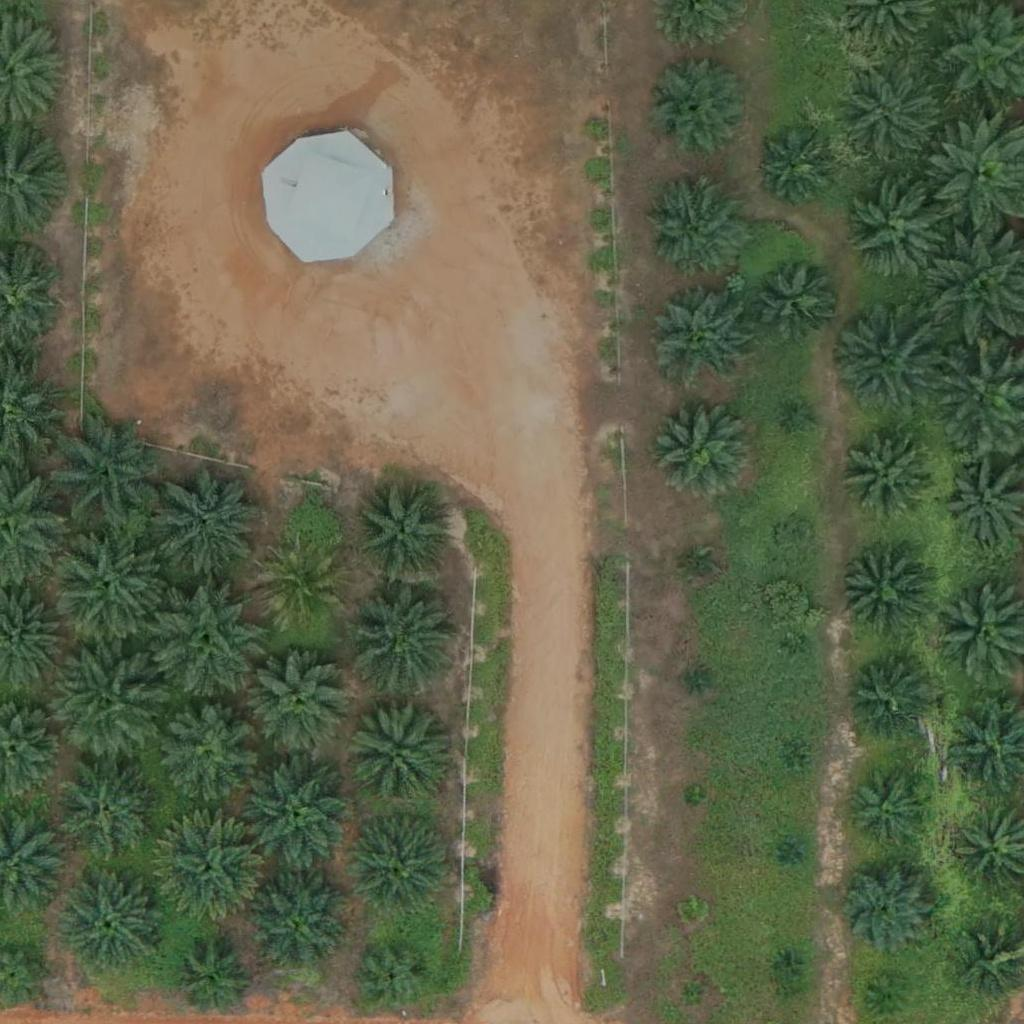Kelapa_Sawit: (830, 304, 943, 418), (154, 467, 267, 581), (152, 583, 265, 697), (52, 418, 165, 532), (241, 756, 354, 869), (52, 524, 164, 638), (154, 817, 266, 930), (830, 853, 942, 966), (349, 582, 461, 695), (49, 649, 161, 762), (643, 176, 743, 277), (651, 287, 751, 388), (649, 395, 749, 496), (351, 482, 451, 583), (248, 874, 348, 975), (57, 765, 157, 866), (61, 872, 161, 973), (648, 57, 748, 157), (846, 69, 946, 169), (848, 182, 948, 282), (346, 702, 446, 802), (351, 816, 451, 916), (252, 655, 352, 755), (158, 705, 258, 805), (848, 764, 936, 853), (845, 656, 933, 744), (257, 545, 345, 633), (846, 428, 933, 516), (839, 550, 926, 638), (752, 257, 839, 345), (357, 938, 432, 1014), (759, 129, 834, 205), (175, 944, 250, 1019), (777, 520, 815, 558), (870, 975, 908, 1013), (790, 405, 815, 430), (786, 635, 811, 660), (780, 751, 805, 776), (686, 555, 711, 580), (686, 668, 711, 693), (682, 786, 707, 811), (678, 898, 703, 923), (681, 982, 706, 1007), (781, 840, 806, 865), (774, 950, 799, 975)
